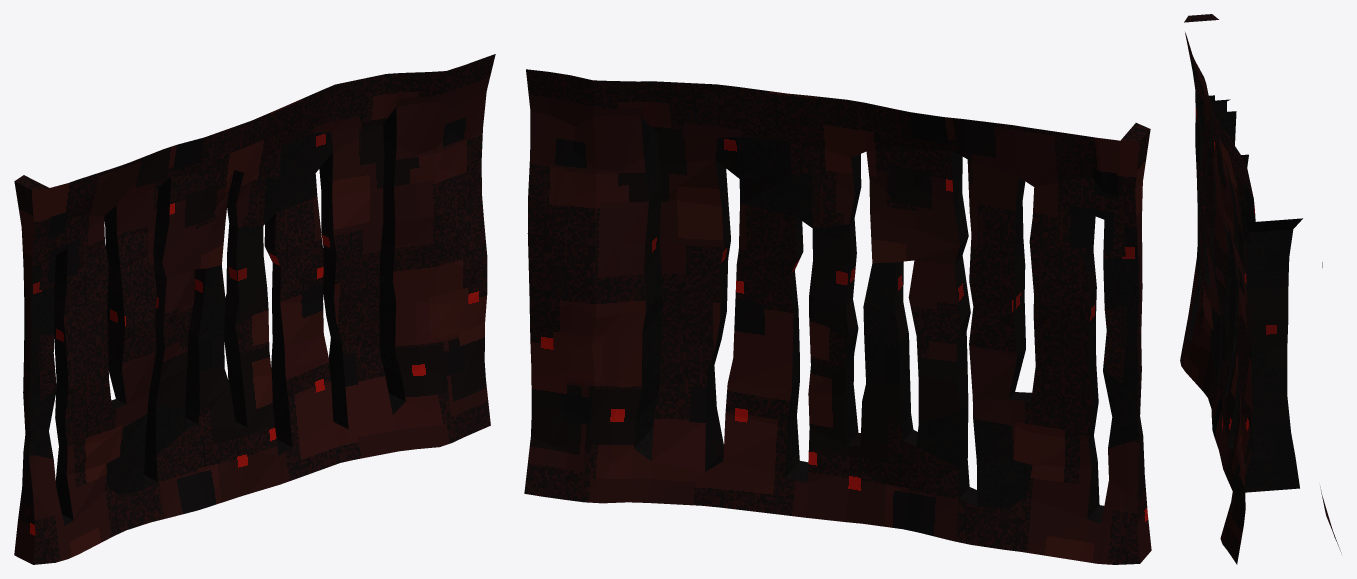
The model's file is map_base_gate.glb.
3 renders of one model, left to right at view 1: azimuth 30°, elevation 25°; view 2: azimuth 150°, elevation 25°; view 3: azimuth 270°, elevation 25°, orthographic. The views are drawn at different scales.
Parts seen in each view (by area): view 1: MapBaseGateRock; view 2: MapBaseGateRock; view 3: MapBaseGateRock.
Part boxes in pixels (x1,y1,x2,y2): MapBaseGateRock: (14, 54, 495, 564); MapBaseGateRock: (524, 69, 1151, 564); MapBaseGateRock: (1180, 14, 1341, 564).
Size of what is drawn, in the model's own units: 12.03 by 8.75 by 3.84.
Materials: 2 (2 with a texture image).
